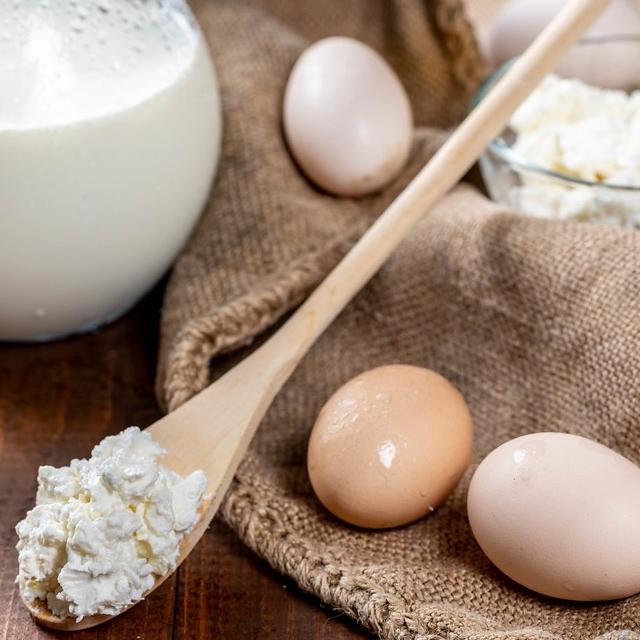egg: (466, 429, 640, 601), (306, 362, 473, 528), (281, 34, 414, 195), (482, 0, 640, 87)
